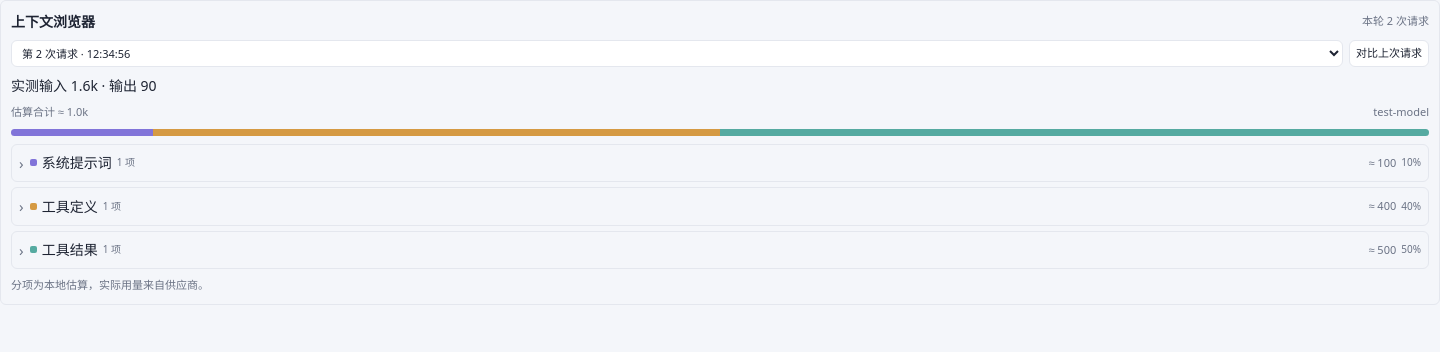
Test: RequestContextBrowser › 选择和展开只使用已有摘要，分项估算不按实测总量缩放
Check: the dropdown named "模型请求" shows "第 2 次请求 · 12:34:56", box [11,40,1343,67]
Check: the text "实测输入 1.6k · 输出 90" is shown, box [11,76,157,95]
Click the heading "工具结果 1 项 ≈ 500 50%" at (70, 250), box [30,240,1421,259]
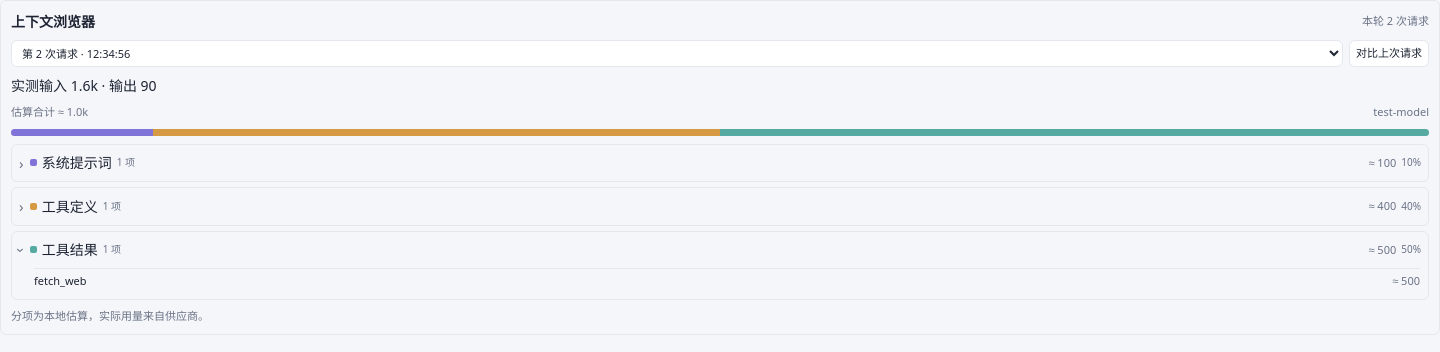
Check: the list item shows "fetch_web", box [34,273,86,288]
Check: the list item shows "≈ 500", box [34,268,1420,294]
Select "第 1 次请求 · 12:34:56" in the dropdown at (677, 54), box [11,40,1343,67]
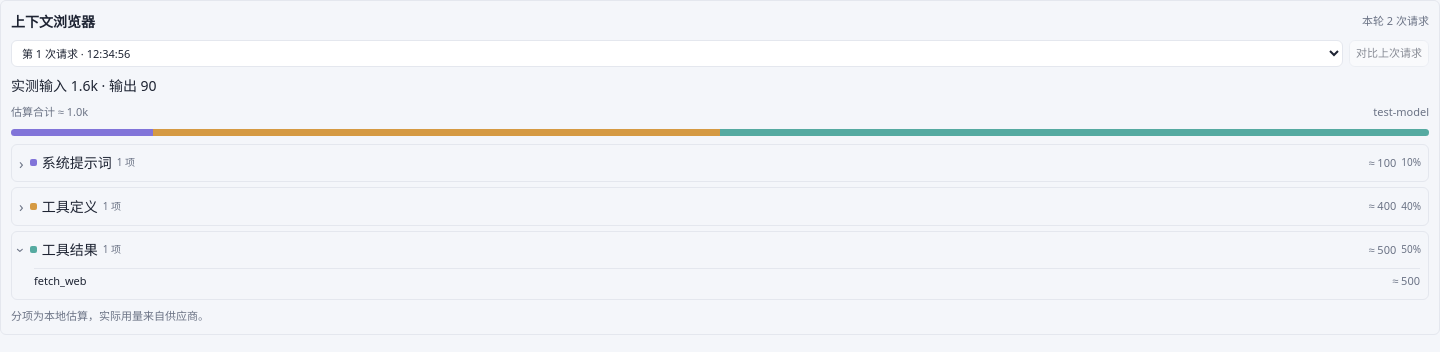
Check: the button "对比上次请求" is disabled, box [1349,40,1429,67]
